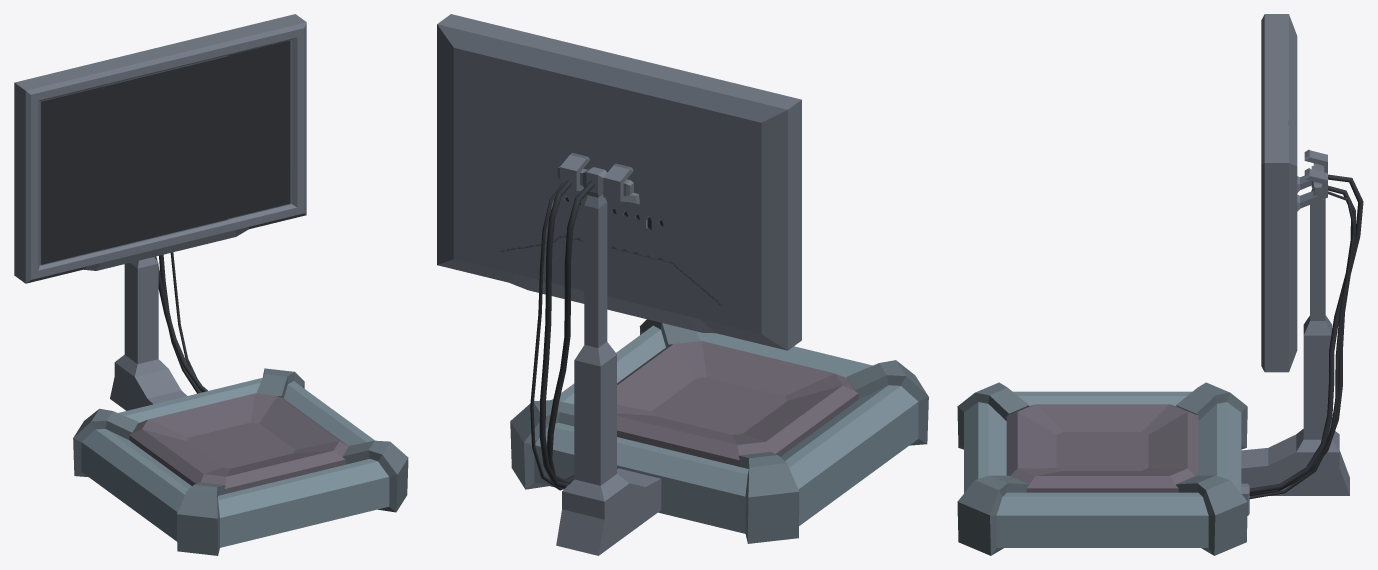
Rendered from Bank.fbx.
3 renders of one model, left to right at view 1: azimuth 30°, elevation 25°; view 2: azimuth 150°, elevation 25°; view 3: azimuth 270°, elevation 25°, orthographic. The views are drawn at different scales.
Parts seen in each view (by area): view 1: Bank; view 2: Bank; view 3: Bank.
Part boxes in pixels (x1,y1,x2,y2): Bank: [14, 14, 408, 555]; Bank: [437, 14, 928, 555]; Bank: [957, 14, 1363, 555].
Size of the model in its own units: 254 by 327 by 293.
Materials: 1 (1 with a texture image).
